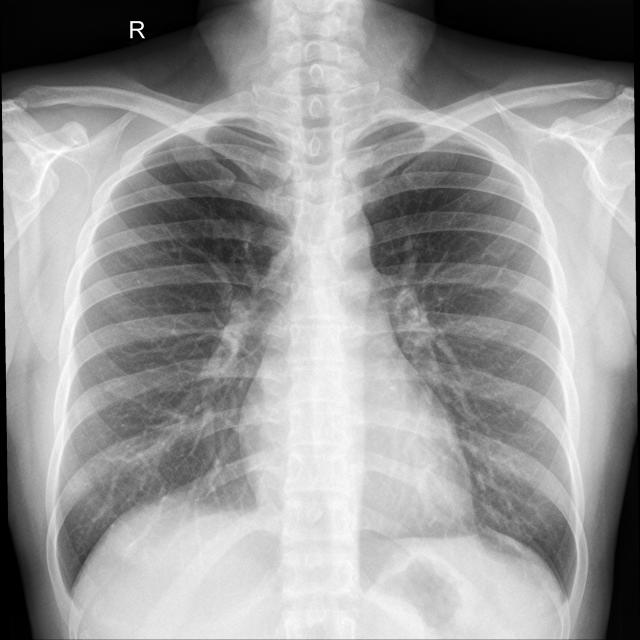no-pneumonia: (59, 123, 292, 579), (360, 126, 577, 577)
